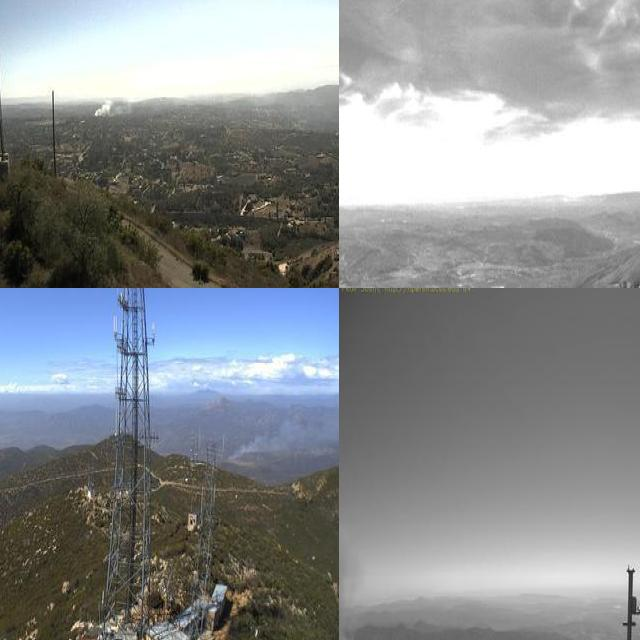smoke: (339, 532, 401, 640), (225, 408, 339, 461), (89, 88, 136, 118)
